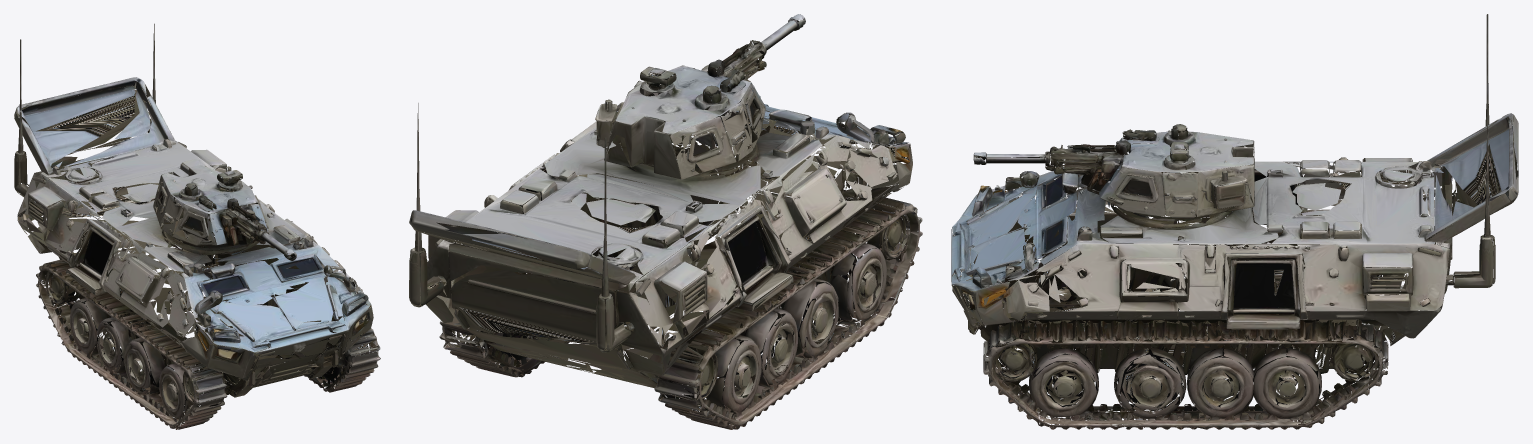
Rendered from ifv2.glb.
3 views of the same model, side by side, from view 1: azimuth 30°, elevation 25°; view 2: azimuth 150°, elevation 25°; view 3: azimuth 270°, elevation 25° (orthographic). The views are drawn at different scales.
Visible parts, largest first — view 1: node_0; view 2: node_0; view 3: node_0.
Boxes of the visible parts, x1,y1,x2,y2 form: node_0: (14, 23, 380, 429); node_0: (409, 14, 922, 429); node_0: (951, 14, 1518, 429).
Bounding box in the file's own units: 0.5179 × 0.6566 × 1.05.
Materials: 1 (1 with a texture image).
